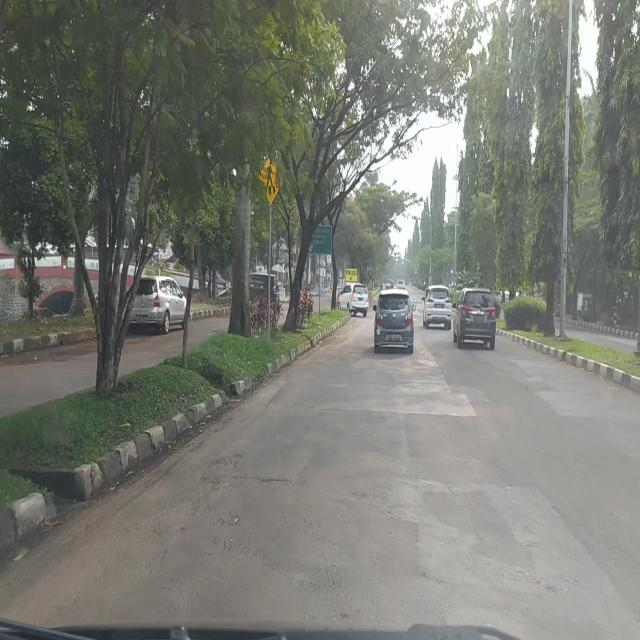Drain Hole: (121, 450, 242, 542), (294, 563, 349, 599), (212, 509, 242, 530)
Sewer Cover: (231, 474, 292, 484)
